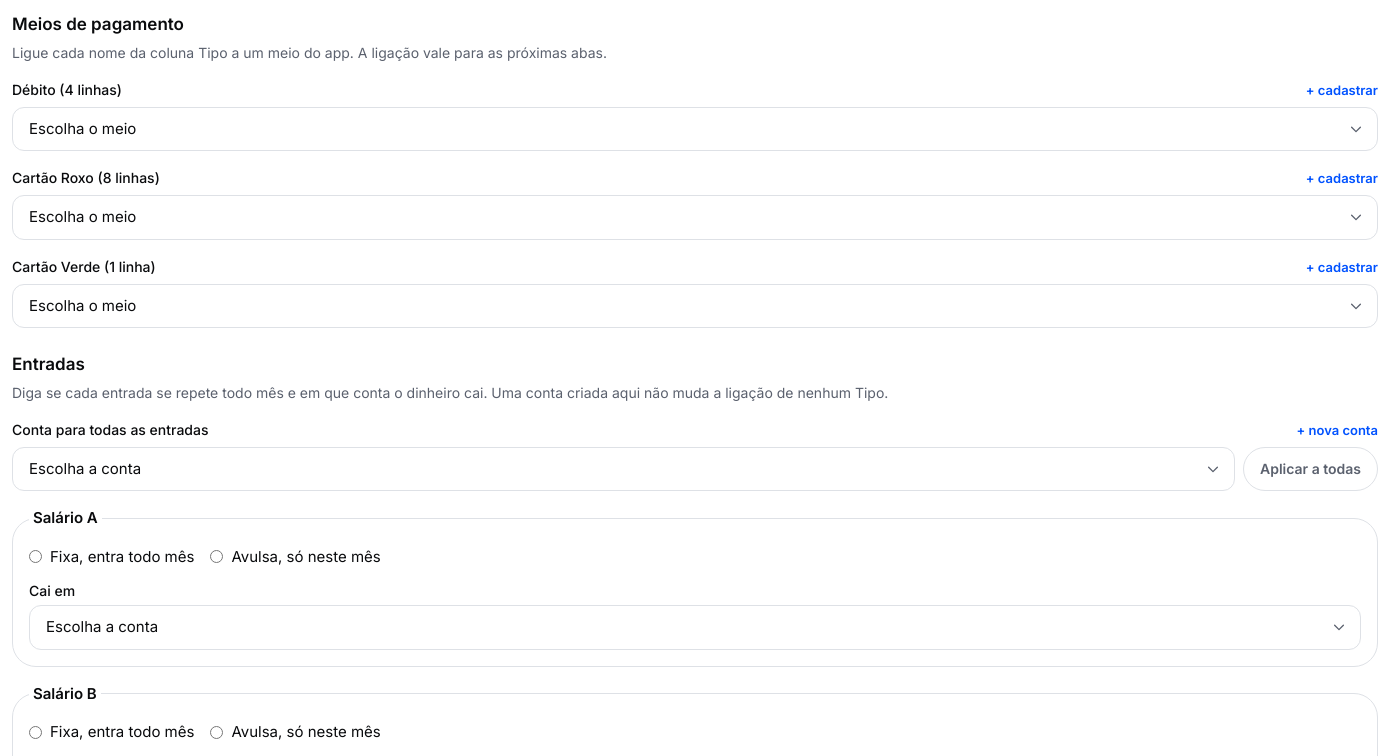
Test case: PassoPendencias — cadastrar o meio que falta (IMP-04, AC 2) › o meio criado fica selecionado para aquele Tipo
Step 1. Click the button "+ cadastrar" in the row of "Débito (4 linhas)" → click(1342, 90), box [1306,78,1378,102]
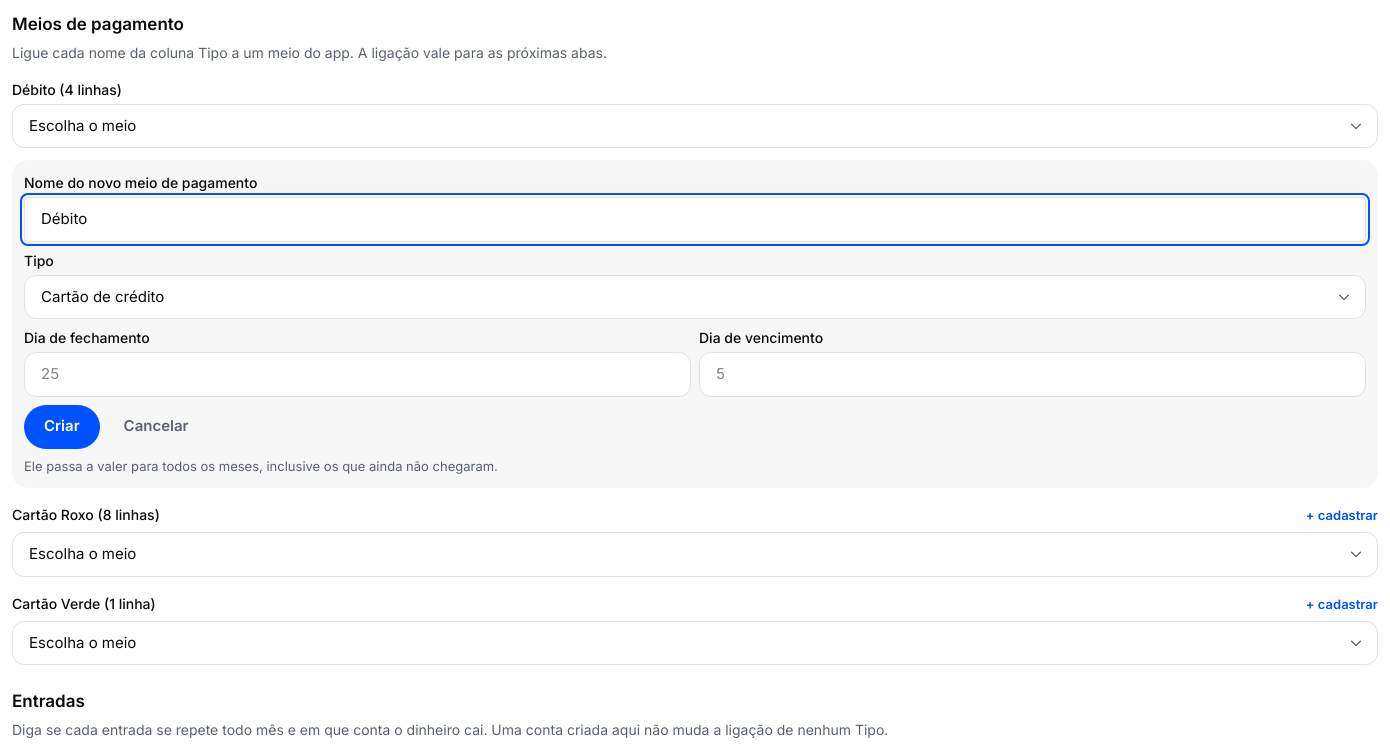
Step 2. Select "Conta corrente" in the dropdown labelled "Tipo" → (695, 297), box [24,274,1366,319]
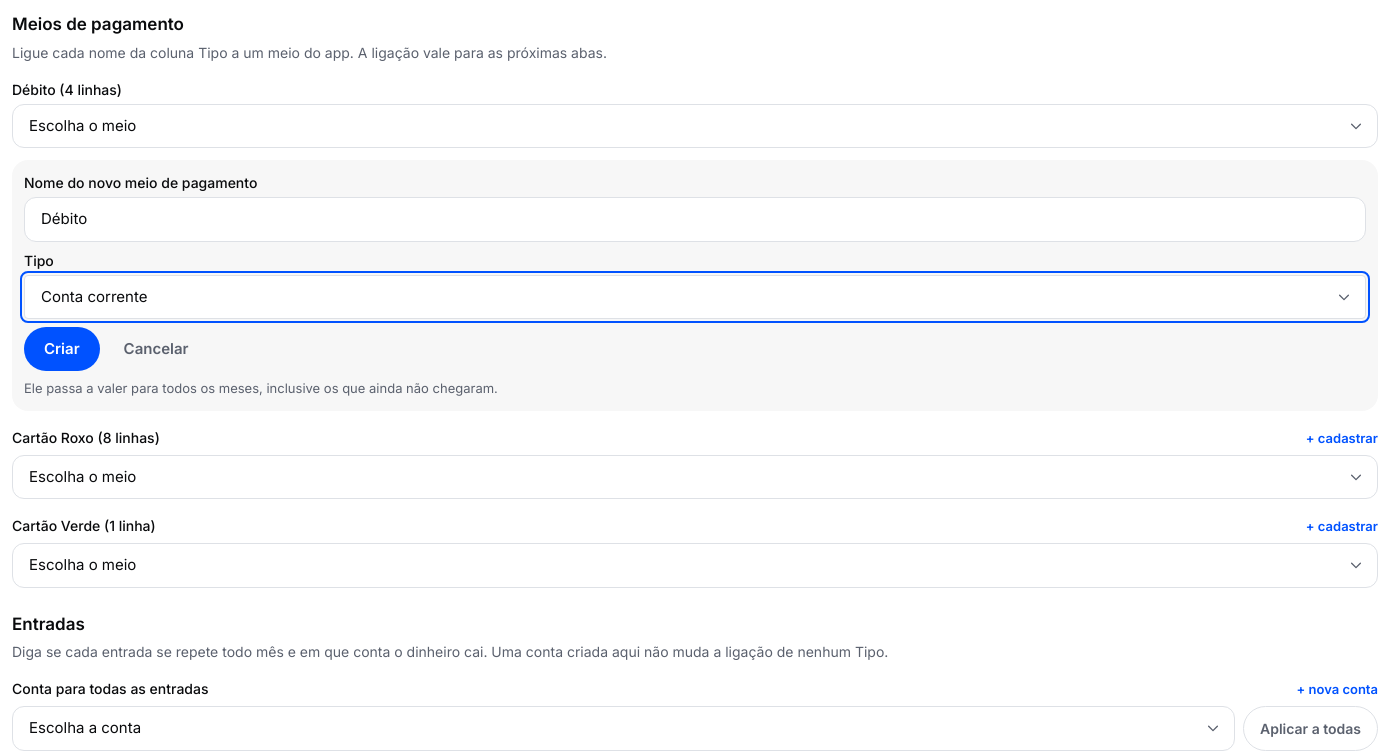
Step 3. Click the button "Criar" → click(62, 349), box [24,327,100,371]
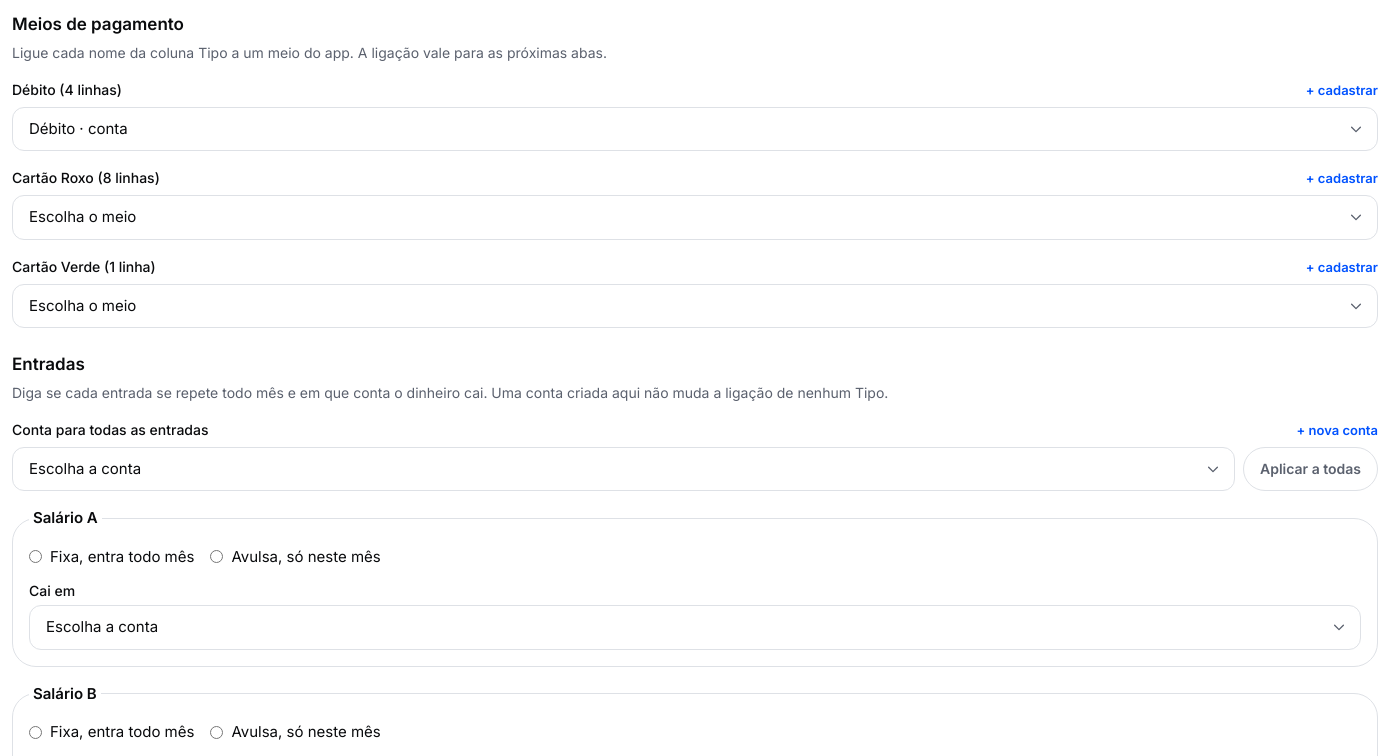
Result: the dropdown labelled "Débito (4 linhas)" shows "Débito · conta" at [12,106,1378,151]
